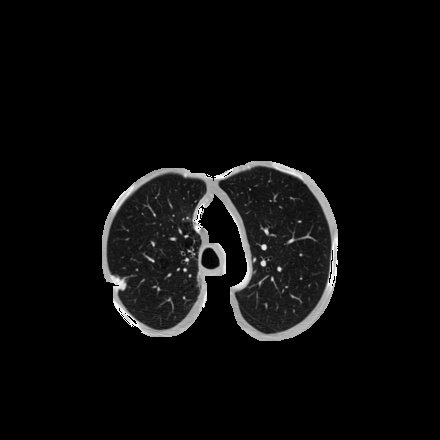PN: (108, 273, 126, 291)
